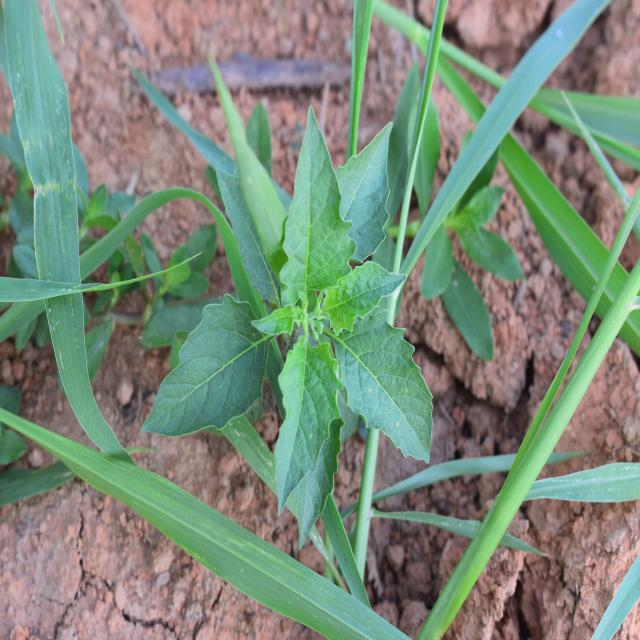Black_nightshade: (173, 147, 435, 493)
